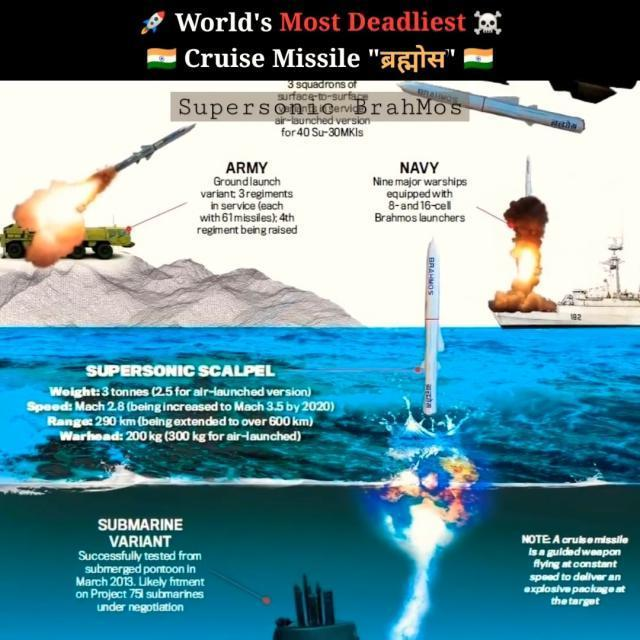Missile: (84, 118, 204, 194), (416, 233, 444, 415)
